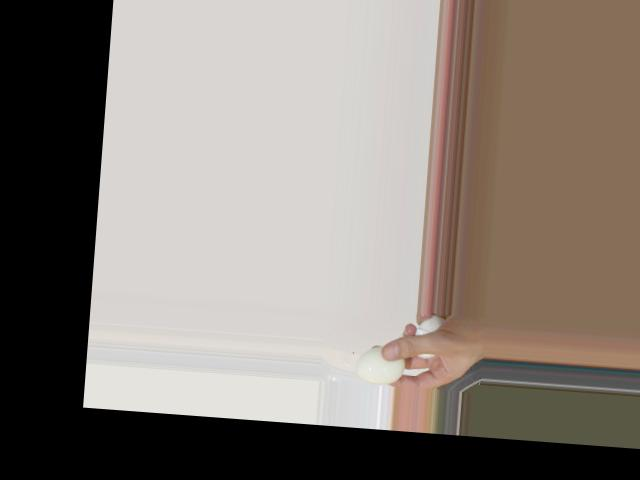egg: (355, 344, 405, 387)
